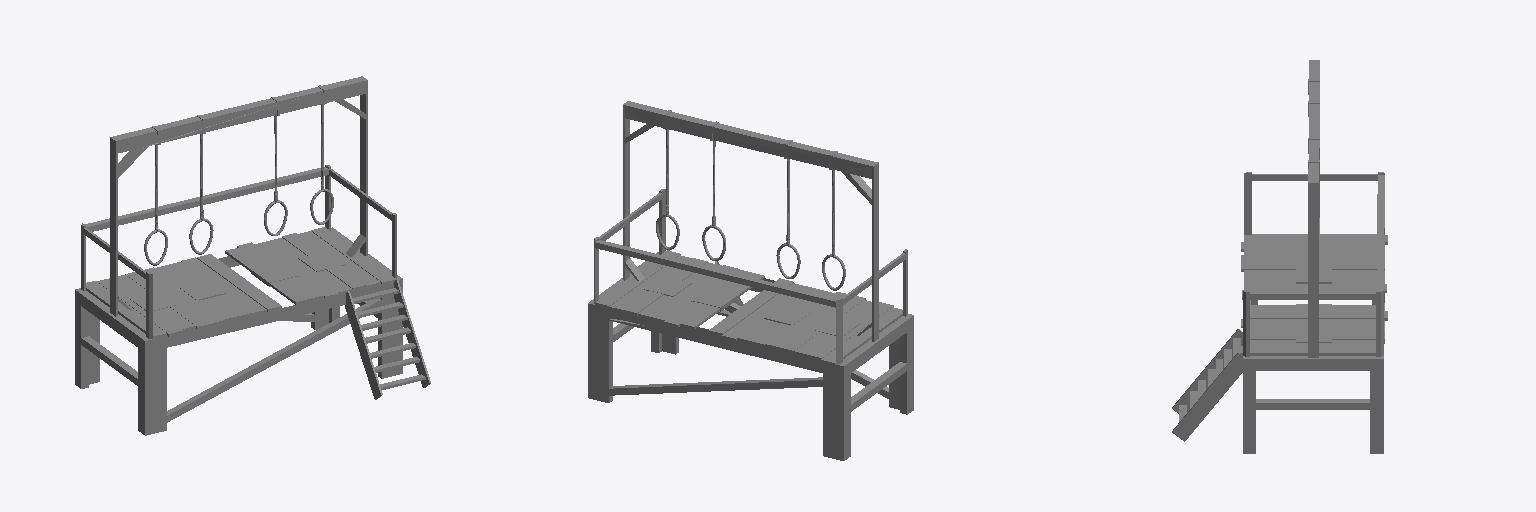
The model's file is gallow.obj.
The picture shows the model from 3 angles: view 1: azimuth 30°, elevation 25°; view 2: azimuth 150°, elevation 25°; view 3: azimuth 270°, elevation 25°; orthographic projection.
Parts seen in each view (by area): view 1: gallows; view 2: gallows; view 3: gallows.
Boxes of the visible parts, x1,y1,x2,y2 form: gallows: [75, 76, 430, 435]; gallows: [588, 101, 913, 460]; gallows: [1172, 60, 1387, 453].
Size of the model in its own units: 108 by 108 by 78.45.